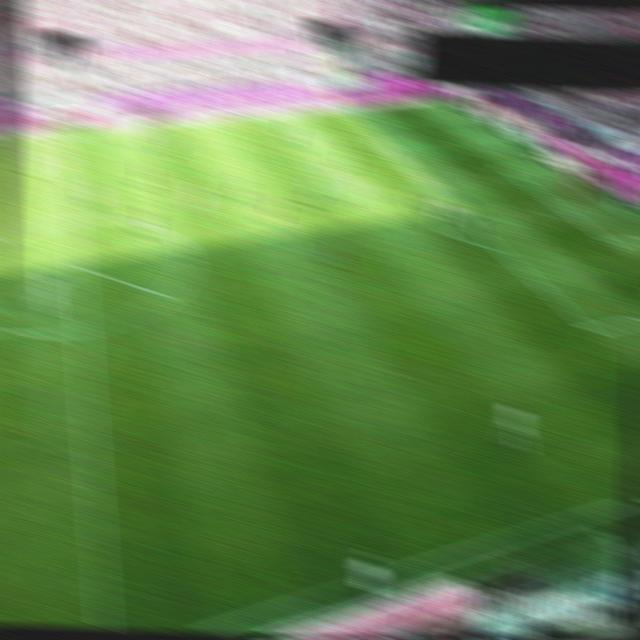bigarea_bottom_inner: (578, 322, 602, 338)
bigarea_top_inner: (370, 137, 393, 152)
bigarea_top_outter: (483, 125, 507, 140)
bottom_arc_area_intersection: (485, 240, 509, 255)
corner: (434, 94, 456, 110)
halfcircle_bottom: (70, 322, 93, 337)
halfcircle_top: (61, 211, 85, 227)
midline_top_intersection: (54, 126, 78, 142)
smallarea_bottom_inner: (602, 235, 626, 250)
smallarea_top_inner: (497, 162, 520, 177)
smallarea_top_outter: (534, 156, 557, 173)
top_arc_area_intersection: (414, 176, 438, 192)
